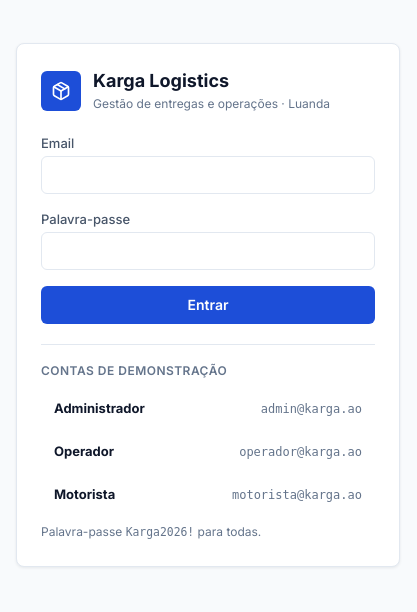
Test: Login › shows the reason the API gave for refusing
Type "admin@karga.ao" into the field labelled "Email" at {"x": 208, "y": 175}, box x1=41 y1=156 x2=375 y2=194
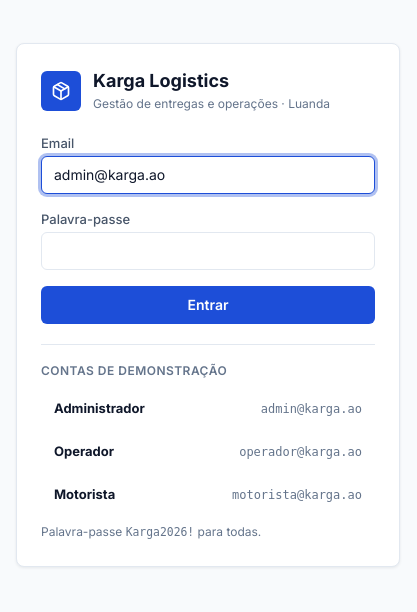
Type "errada" into the password field labelled "Palavra-passe" at {"x": 208, "y": 251}, box x1=41 y1=232 x2=375 y2=270
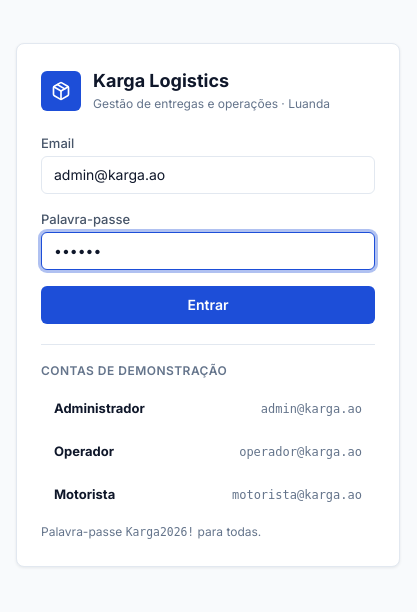
Click the button "Entrar" at {"x": 208, "y": 305}, box x1=41 y1=286 x2=375 y2=324
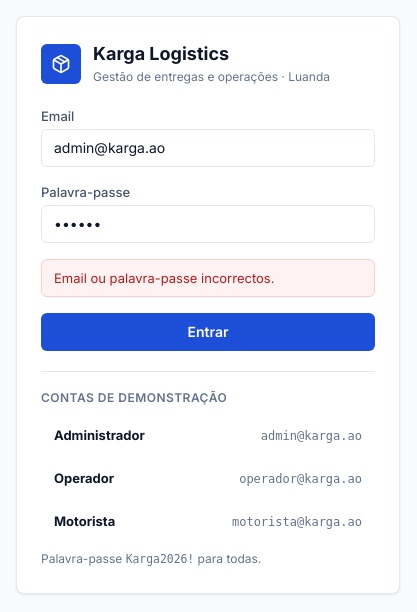
Expected: the message reads "Email ou palavra-passe incorrectos.", x1=54 y1=270 x2=274 y2=286
